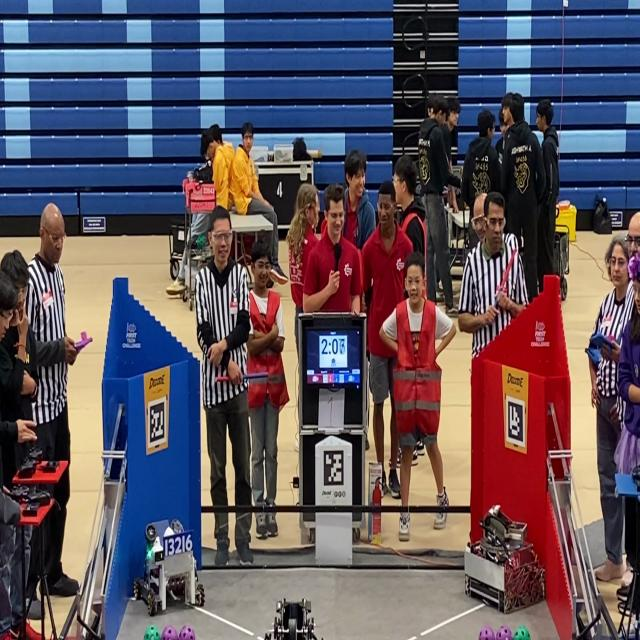artifact_green: (513, 626, 530, 639), (144, 626, 160, 639)
artifact_purple: (161, 626, 178, 639), (179, 626, 195, 639), (496, 626, 512, 639), (479, 627, 495, 639)
